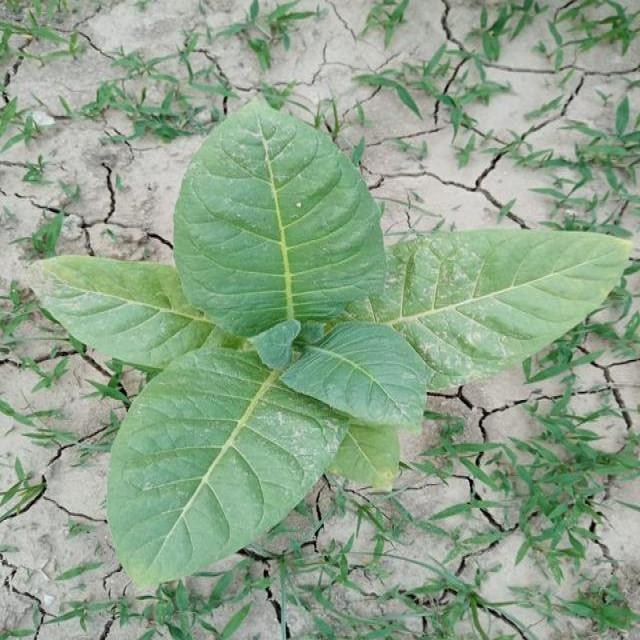crop: (34, 99, 628, 587)
